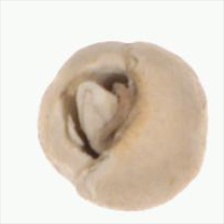L3: (62, 66, 139, 158)
L4: (38, 42, 207, 211)
